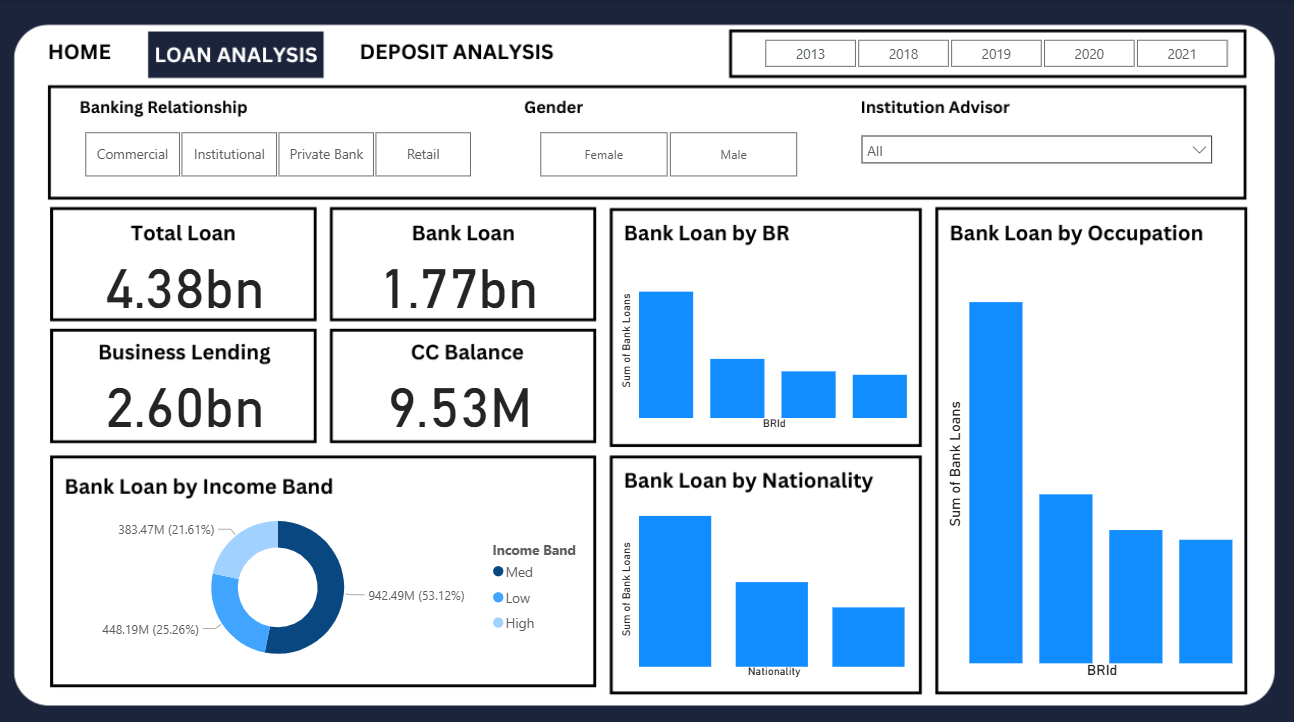

Layout of this report page (visuals, bound fields, positions):
{"tool":"powerbi","page":{"name":"Loan Analysis","canvas":[1280,720],"ordinal":1},"visuals":[{"type":"slicer","fields":{"Values":["banking_case customer.Year of Joining"]},"box":[733.3,32.2,504.1,34.9],"z":0},{"type":"actionButton","box":[36.4,31.7,99.7,39.6],"z":1000},{"type":"actionButton","box":[348.2,31.7,221.6,39.6],"z":2000},{"type":"actionButton","box":[587.1,31.7,123.4,39.6],"z":3000},{"type":"card","fields":{"Values":["banking_case customer.Total Loan"]},"box":[100.9,243.7,179.5,65.5],"z":4000},{"type":"card","fields":{"Values":["Sum(banking_case customer.Bank Loans)"]},"box":[369.5,243.7,179.5,65.5],"z":5000},{"type":"card","fields":{"Values":["Sum(banking_case customer.Business Lending)"]},"box":[100.9,360.4,179.5,65.5],"z":6000},{"type":"card","fields":{"Values":["Sum(banking_case customer.Credit Card Balance)"]},"box":[370.8,360.4,179.5,65.5],"z":7000},{"type":"donutChart","fields":{"Category":["banking_case customer.Income Band"],"Y":["Sum(banking_case customer.Bank Loans)"]},"box":[66.8,488.8,530.7,176.9],"z":8000},{"type":"clusteredColumnChart","fields":{"Category":["banking_case customer.BRId"],"Y":["Sum(banking_case customer.Bank Loans)"]},"box":[613.3,243.7,293.5,182.1],"z":9000},{"type":"clusteredColumnChart","fields":{"Category":["banking_case customer.Nationality"],"Y":["Sum(banking_case customer.Bank Loans)"]},"box":[613.3,488.8,293.5,182.1],"z":10000},{"type":"clusteredColumnChart","fields":{"Category":["banking_case customer.BRId"],"Y":["Sum(banking_case customer.Bank Loans)"]},"box":[933.7,245.3,292.8,425.7],"z":11000},{"type":"slicer","fields":{"Values":["banking_case customer.BRId"]},"box":[66.8,123.2,428.5,57.7],"z":12000},{"type":"slicer","fields":{"Values":["banking_case customer.GenderId"]},"box":[512.4,123.2,302.7,57.7],"z":13000},{"type":"slicer","fields":{"Values":["banking_case customer.IAId"]},"box":[843.9,123.2,364.3,57.7],"z":14000},{"type":"shape","box":[570.6,27,142.3,50.3],"z":14001}]}

Visuals, with their boxes in screenshot pixels (x1, y1, x2, y2), scaled from the page's 1280x720 canvas onto the 1294x722 screenshot:
slicer - banking_case customer.Year of Joining: <bbox>741, 32, 1251, 67</bbox>
actionButton: <bbox>37, 32, 138, 71</bbox>
actionButton: <bbox>352, 32, 576, 71</bbox>
actionButton: <bbox>594, 32, 718, 71</bbox>
card - banking_case customer.Total Loan: <bbox>102, 244, 283, 310</bbox>
card - Sum(banking_case customer.Bank Loans): <bbox>374, 244, 555, 310</bbox>
card - Sum(banking_case customer.Business Lending): <bbox>102, 361, 283, 427</bbox>
card - Sum(banking_case customer.Credit Card Balance): <bbox>375, 361, 556, 427</bbox>
donutChart - banking_case customer.Income Band x Sum(banking_case customer.Bank Loans): <bbox>68, 490, 604, 668</bbox>
clusteredColumnChart - banking_case customer.BRId x Sum(banking_case customer.Bank Loans): <bbox>620, 244, 917, 427</bbox>
clusteredColumnChart - banking_case customer.Nationality x Sum(banking_case customer.Bank Loans): <bbox>620, 490, 917, 673</bbox>
clusteredColumnChart - banking_case customer.BRId x Sum(banking_case customer.Bank Loans): <bbox>944, 246, 1240, 673</bbox>
slicer - banking_case customer.BRId: <bbox>68, 124, 501, 181</bbox>
slicer - banking_case customer.GenderId: <bbox>518, 124, 824, 181</bbox>
slicer - banking_case customer.IAId: <bbox>853, 124, 1221, 181</bbox>
shape: <bbox>577, 27, 721, 78</bbox>
